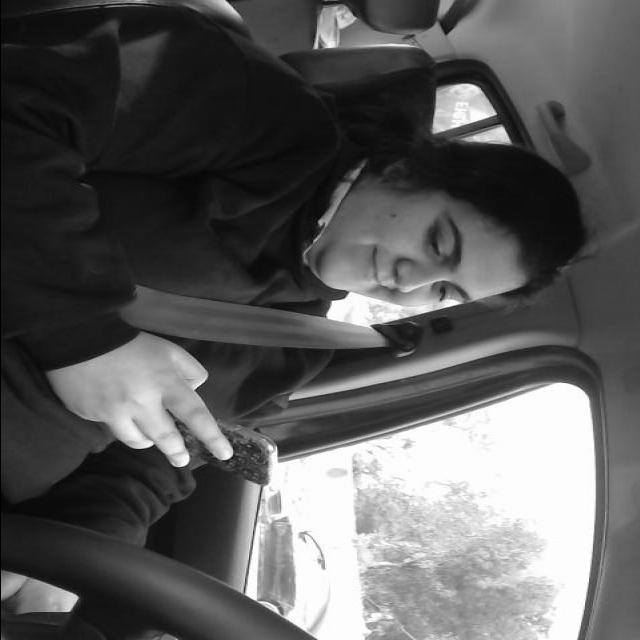mobile use: (113, 416, 283, 494)
